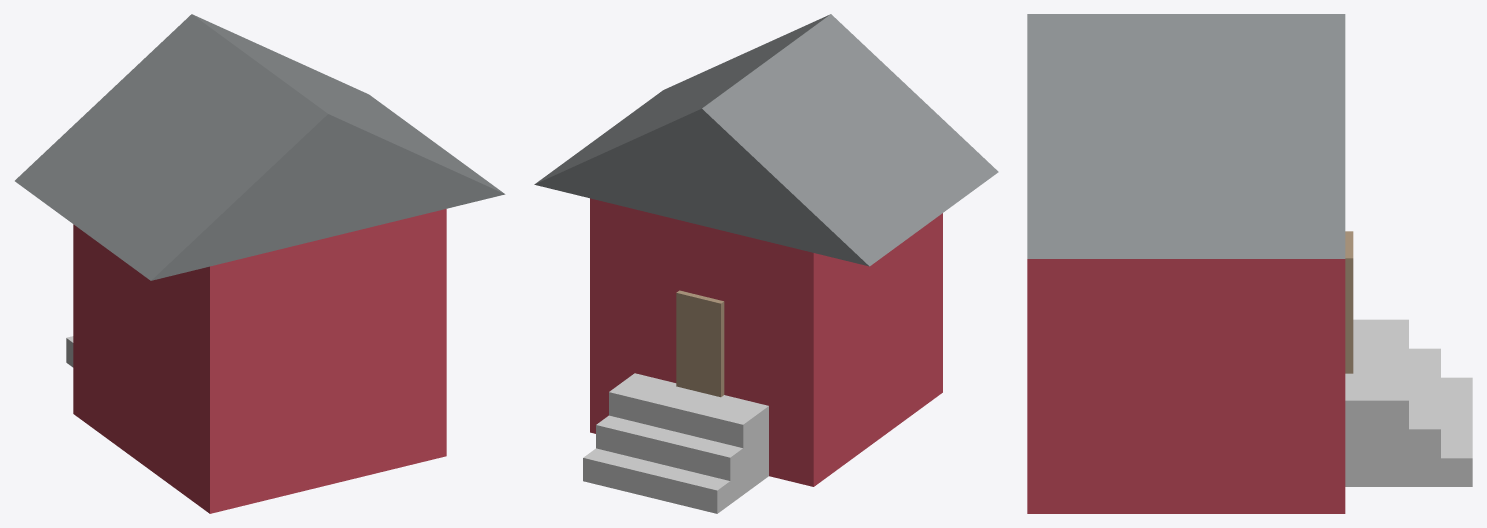
File: house.glb
The picture shows the model from 3 angles, left to right: view 1: azimuth 30°, elevation 25°; view 2: azimuth 150°, elevation 25°; view 3: azimuth 270°, elevation 25°; orthographic projection. The views are drawn at different scales.
Visible parts, largest first — view 1: Mesh_Mesh_head_geo.001_lambert2SG.001; view 2: Mesh_Mesh_head_geo.001_lambert2SG.001; view 3: Mesh_Mesh_head_geo.001_lambert2SG.001.
Boxes of the visible parts, box(x1,y1,x2,y2) form: Mesh_Mesh_head_geo.001_lambert2SG.001: box(15, 14, 505, 513); Mesh_Mesh_head_geo.001_lambert2SG.001: box(534, 14, 998, 513); Mesh_Mesh_head_geo.001_lambert2SG.001: box(1027, 14, 1472, 513).
Bounding box in the file's own units: 120 × 120 × 112.
